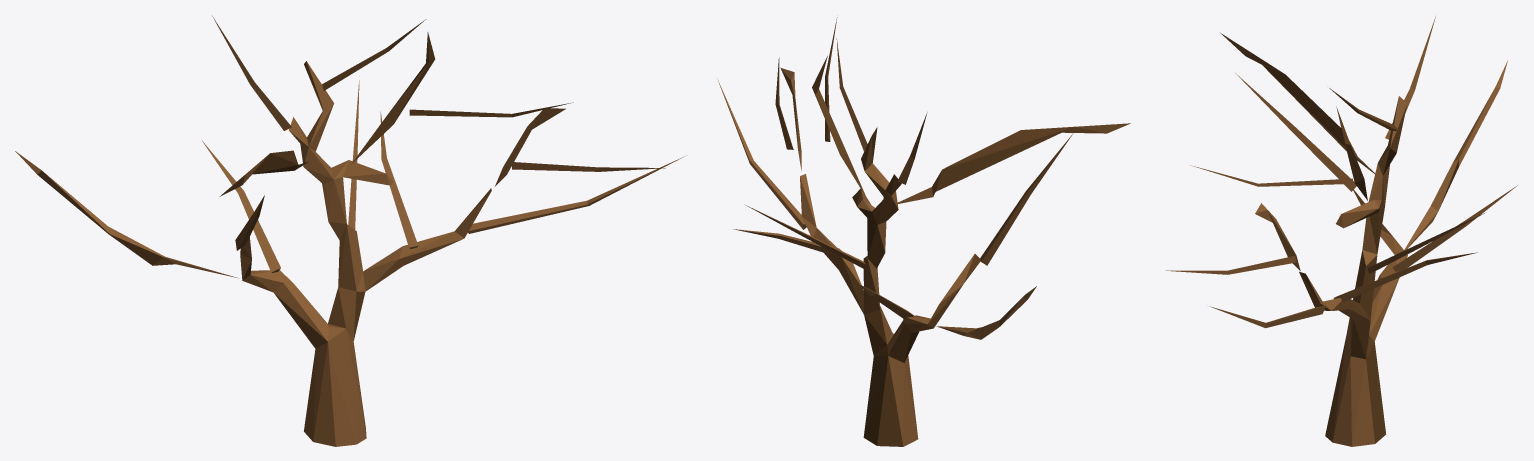
The model's file is elm_1_bare_far.glb.
3 renders of one model, left to right at view 1: azimuth 30°, elevation 25°; view 2: azimuth 150°, elevation 25°; view 3: azimuth 270°, elevation 25°, orthographic. The views are drawn at different scales.
Visible parts, largest first — view 1: elm_1_bare_far; view 2: elm_1_bare_far; view 3: elm_1_bare_far.
Part boxes in pixels (x1=…): elm_1_bare_far: x1=15, y1=16, x2=686, y2=446; elm_1_bare_far: x1=717, y1=17, x2=1130, y2=446; elm_1_bare_far: x1=1165, y1=16, x2=1517, y2=446.
Bounding box in the file's own units: 7.66 × 5.82 × 4.95.
